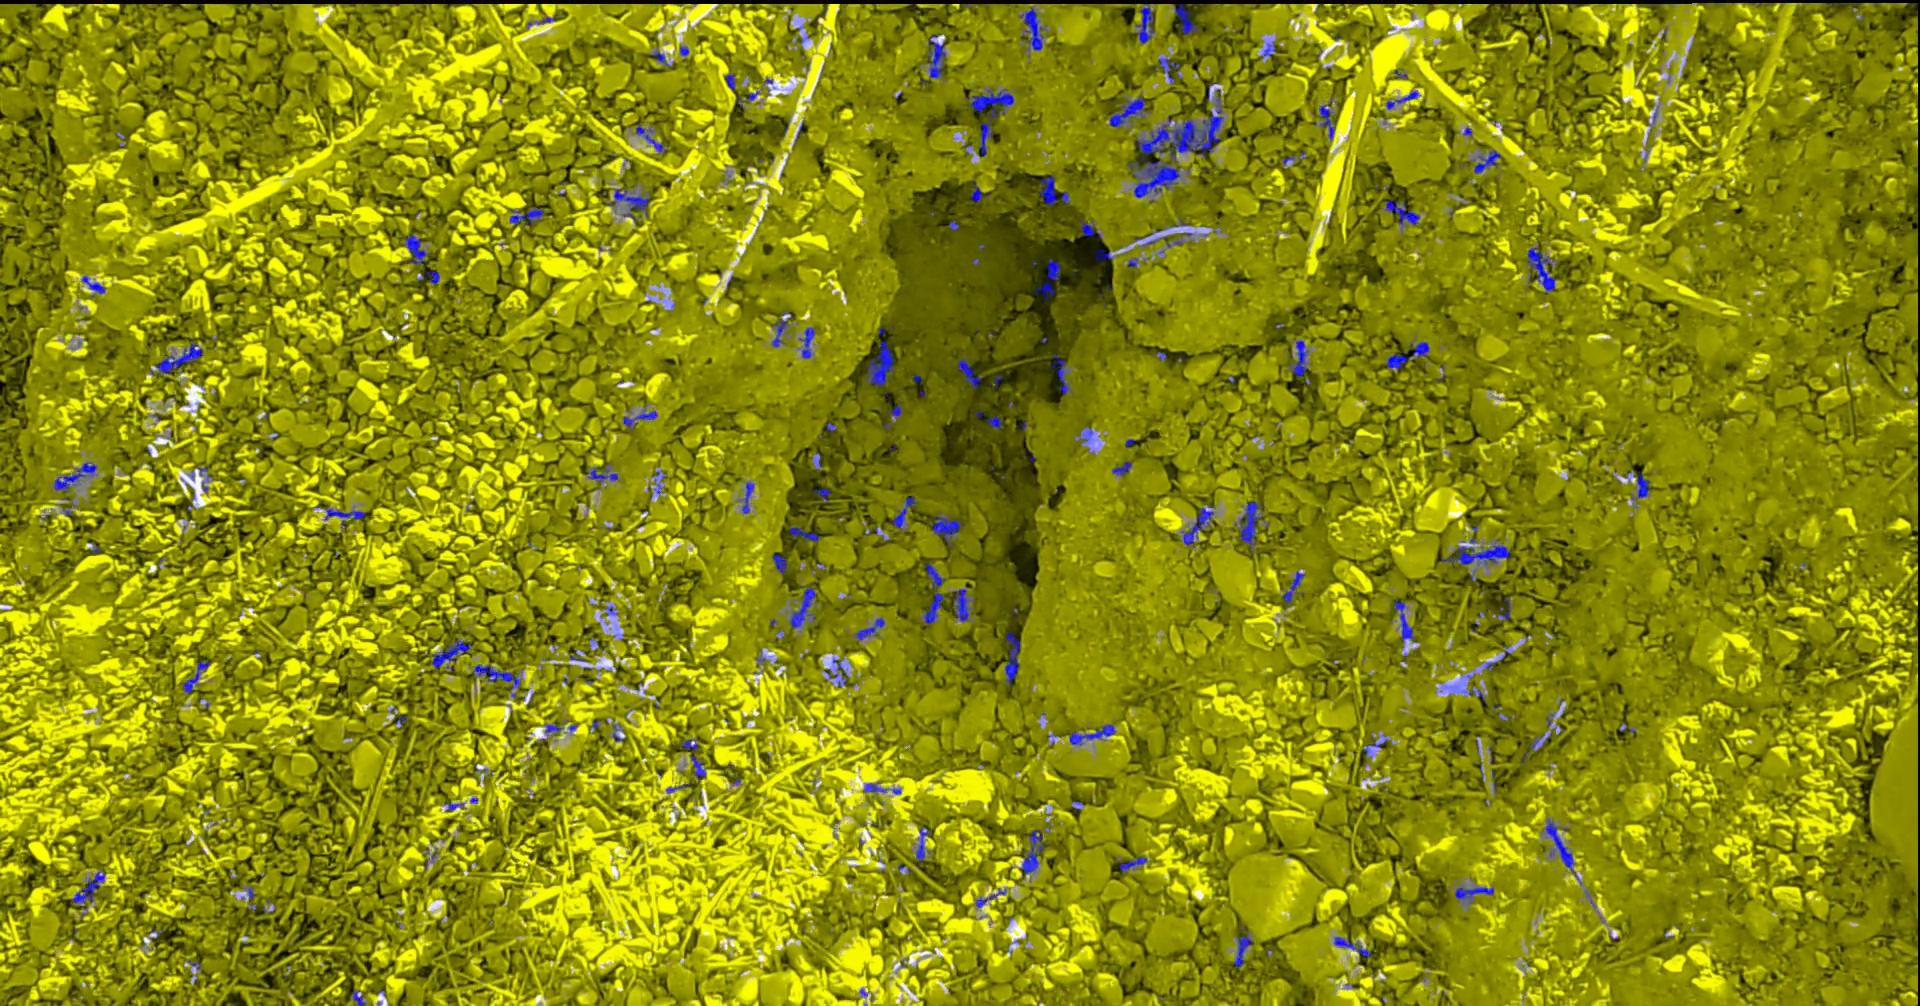ant: (968, 88, 1015, 156), (1547, 818, 1581, 880), (1443, 537, 1511, 567), (156, 337, 204, 373), (474, 663, 522, 697), (1236, 500, 1265, 551), (608, 188, 651, 222), (923, 561, 946, 622), (1529, 244, 1558, 290), (1183, 506, 1215, 547), (867, 340, 897, 385), (1388, 340, 1431, 370), (55, 462, 98, 492), (1111, 95, 1150, 127), (1021, 829, 1049, 874), (432, 638, 472, 668), (72, 871, 107, 906), (790, 586, 817, 627), (1021, 6, 1046, 50), (930, 514, 963, 547), (1036, 258, 1062, 300), (1070, 724, 1117, 744), (1006, 631, 1022, 686), (1396, 600, 1415, 647), (1040, 175, 1070, 205), (184, 661, 212, 692), (959, 354, 985, 387), (1387, 199, 1421, 225), (1335, 936, 1375, 956), (405, 234, 433, 263), (623, 406, 659, 429), (1175, 3, 1200, 34), (1051, 354, 1072, 394), (893, 495, 917, 528), (637, 124, 665, 152), (1137, 3, 1156, 43), (326, 506, 367, 525), (930, 34, 947, 77), (1316, 104, 1337, 140), (1283, 570, 1305, 603), (1290, 339, 1310, 376), (773, 311, 794, 347), (856, 617, 886, 640), (951, 588, 971, 621), (510, 206, 545, 225), (1476, 149, 1502, 173), (825, 659, 850, 686), (1156, 58, 1183, 81), (1236, 931, 1253, 967), (1387, 90, 1420, 109), (977, 888, 1008, 907), (1457, 887, 1495, 902), (790, 525, 822, 542), (917, 826, 932, 861), (800, 326, 817, 358), (589, 464, 618, 481), (971, 179, 992, 202), (1081, 218, 1103, 239), (1120, 856, 1148, 873), (83, 276, 107, 293), (692, 754, 709, 780), (743, 481, 756, 513), (1531, 732, 1553, 749), (1636, 473, 1651, 497), (1497, 597, 1512, 620), (651, 50, 672, 66), (1112, 460, 1133, 475), (773, 553, 789, 573), (419, 271, 441, 285), (865, 781, 888, 793), (1261, 42, 1277, 57), (889, 403, 904, 419), (1079, 426, 1095, 442), (815, 486, 832, 502), (1470, 687, 1487, 702), (352, 989, 367, 1005), (987, 415, 1003, 429), (1096, 248, 1114, 260), (615, 723, 626, 741), (681, 738, 698, 749), (546, 723, 563, 734), (728, 72, 737, 90)
